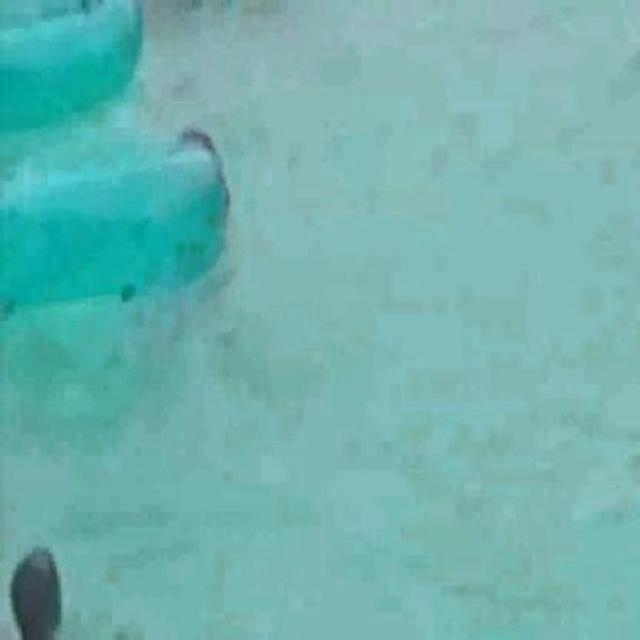drowning: (160, 148, 298, 308)
